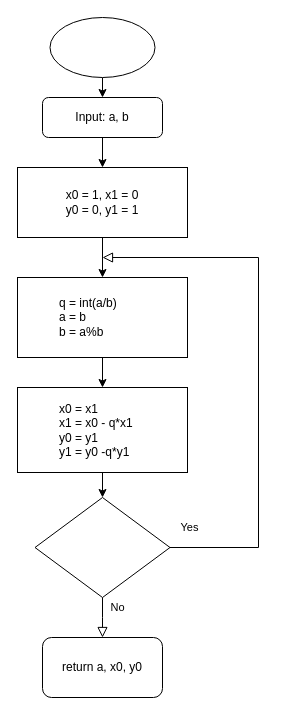
This 286x715 diagram has some shape labels left out. Each missing label, with the centre of its shape:
"if b != 0" goes at [102,547].
"Start" goes at [102,47].
